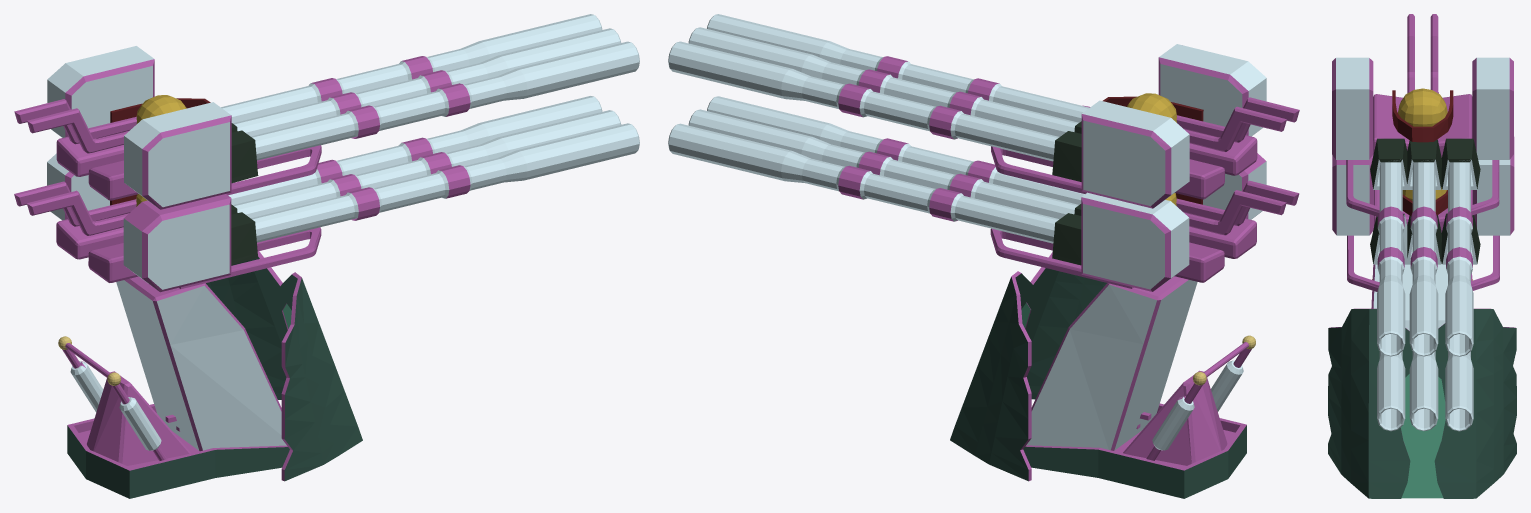
Rendered from Turret-Type1-5.fbx.
3 renders of one model, left to right at view 1: azimuth 30°, elevation 25°; view 2: azimuth 150°, elevation 25°; view 3: azimuth 270°, elevation 25°, orthographic. The views are drawn at different scales.
Parts seen in each view (by area): view 1: auto_turret:attack, auto_turret8:base; view 2: auto_turret:attack, auto_turret8:base; view 3: auto_turret:attack, auto_turret8:base.
Part boxes in pixels (x1=…): auto_turret:attack: x1=14, y1=14, x2=639, y2=292; auto_turret8:base: x1=58, y1=251, x2=362, y2=498; auto_turret:attack: x1=668, y1=14, x2=1299, y2=291; auto_turret8:base: x1=950, y1=252, x2=1255, y2=498; auto_turret:attack: x1=1332, y1=14, x2=1514, y2=431; auto_turret8:base: x1=1328, y1=262, x2=1516, y2=498.
Size of the model in its own units: 115 by 69.74 by 34.5.
